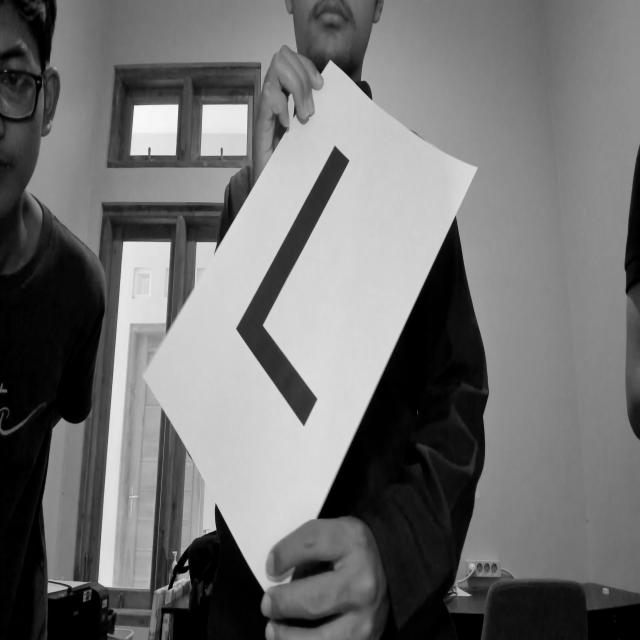l: (199, 123, 361, 427)
